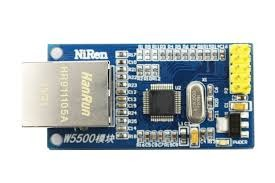Ethernet-W5500: (10, 36, 265, 162)
